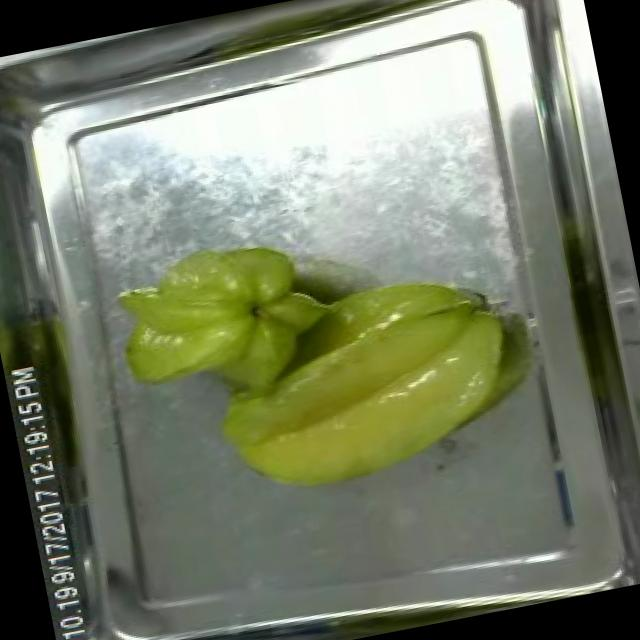fruit: (184, 248, 544, 522), (92, 223, 324, 406)
